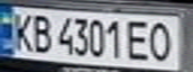0: (87, 16, 106, 58)
1: (103, 16, 127, 60)
3: (69, 15, 90, 57)
4: (54, 13, 75, 55)
B: (27, 11, 54, 54)
E: (124, 17, 154, 62)
K: (6, 9, 36, 53)
O: (142, 18, 178, 63)
